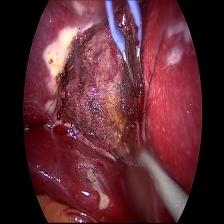Bipolar: (100, 0, 154, 100)
Irrigator: (134, 153, 177, 205)
